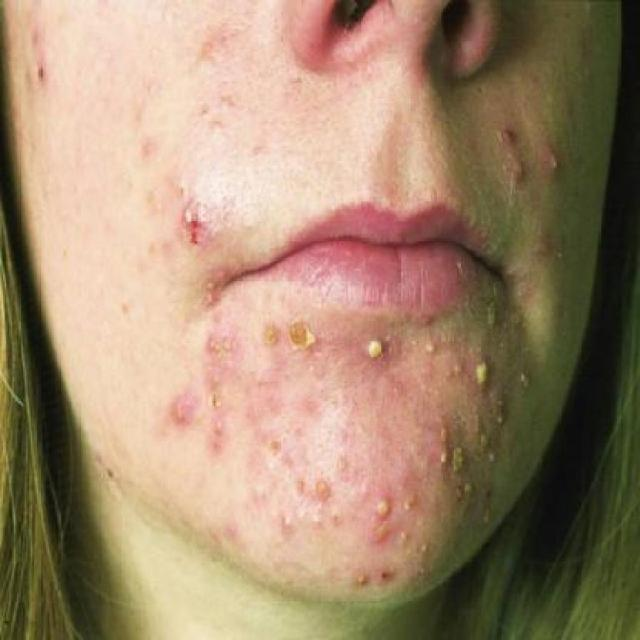blackheads: (286, 308, 318, 354), (496, 113, 526, 156), (526, 226, 558, 263), (360, 328, 390, 367), (502, 152, 532, 190), (170, 386, 192, 430), (541, 144, 566, 182), (310, 470, 336, 502), (471, 356, 494, 392), (178, 196, 198, 236), (350, 564, 373, 597), (32, 55, 52, 92), (260, 318, 278, 351), (517, 363, 534, 396), (373, 492, 392, 519), (422, 335, 440, 363), (314, 474, 332, 500), (437, 419, 453, 447), (212, 415, 228, 440), (278, 512, 300, 530), (490, 409, 508, 431), (484, 446, 500, 470), (213, 267, 232, 283), (437, 446, 450, 468), (418, 538, 433, 557), (333, 454, 351, 469), (204, 287, 215, 308)
